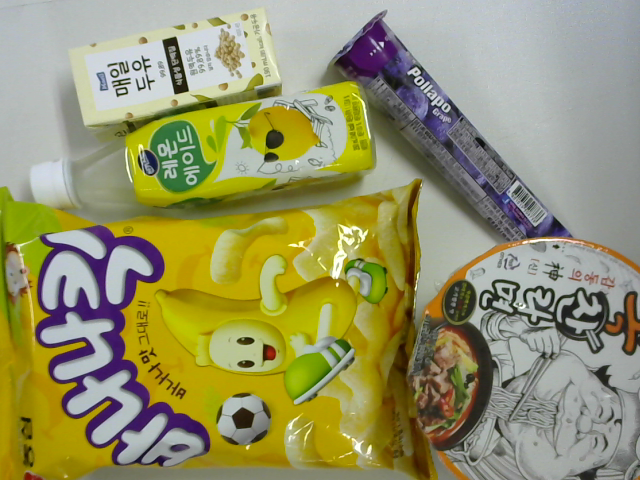99.89_Soymilk: (65, 10, 283, 124)
Banana_Kick: (3, 194, 422, 480)
Hejangchan: (405, 234, 637, 480)
Polapo_Grape: (333, 12, 575, 246)
Sunkist_Lemonaid_Pet: (27, 88, 379, 208)
